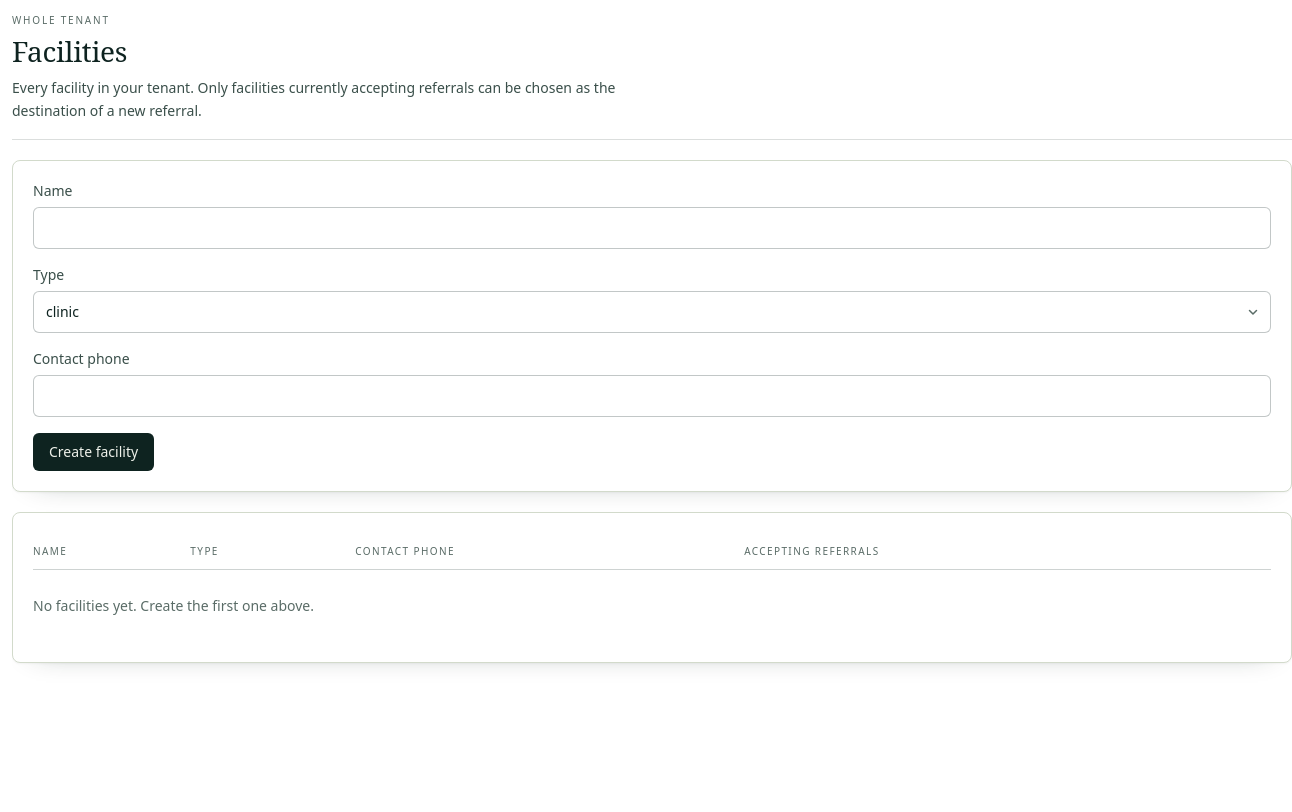
Test: FacilitiesPage › submits the create-facility form and reloads the list
In the field labelled "Name": (652, 228) [33,206,1271,248], type "New Facility"
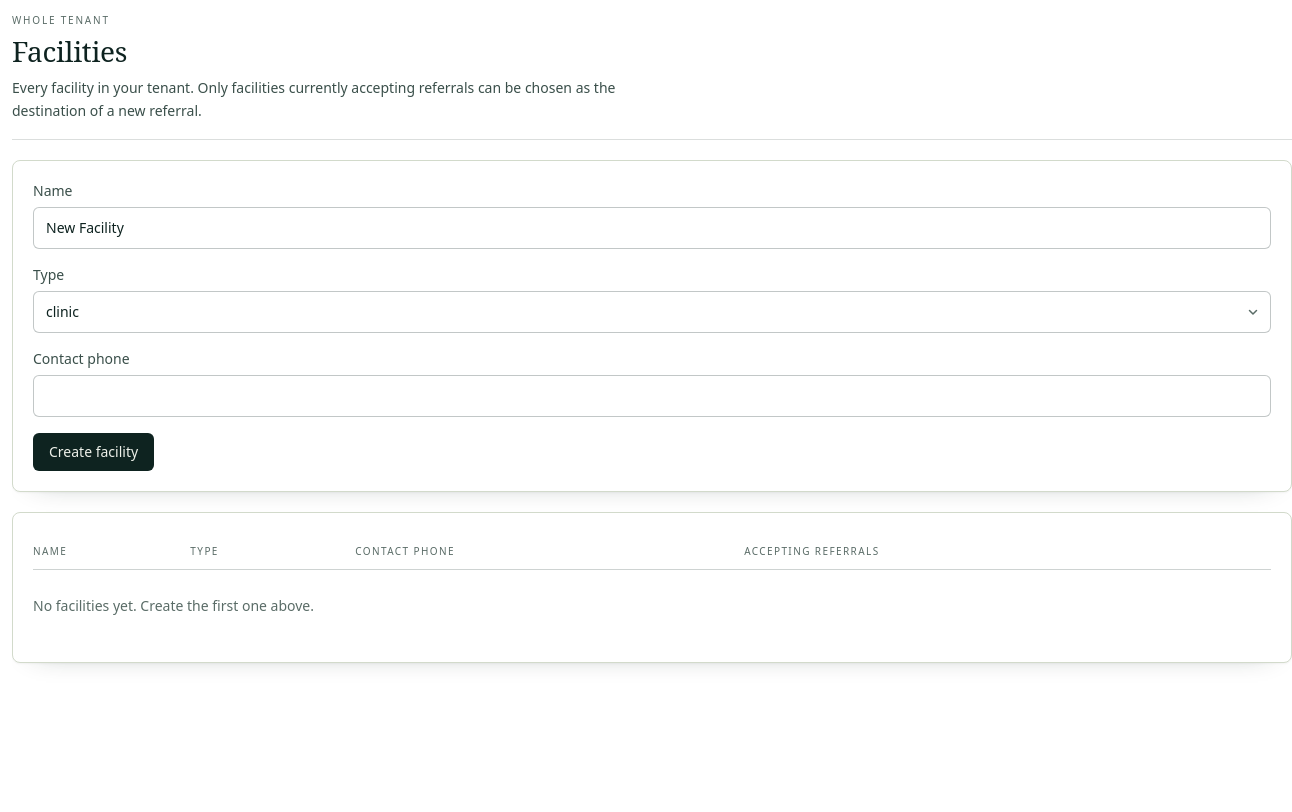
Click the button "Create facility": (94, 452) [33,432,154,470]
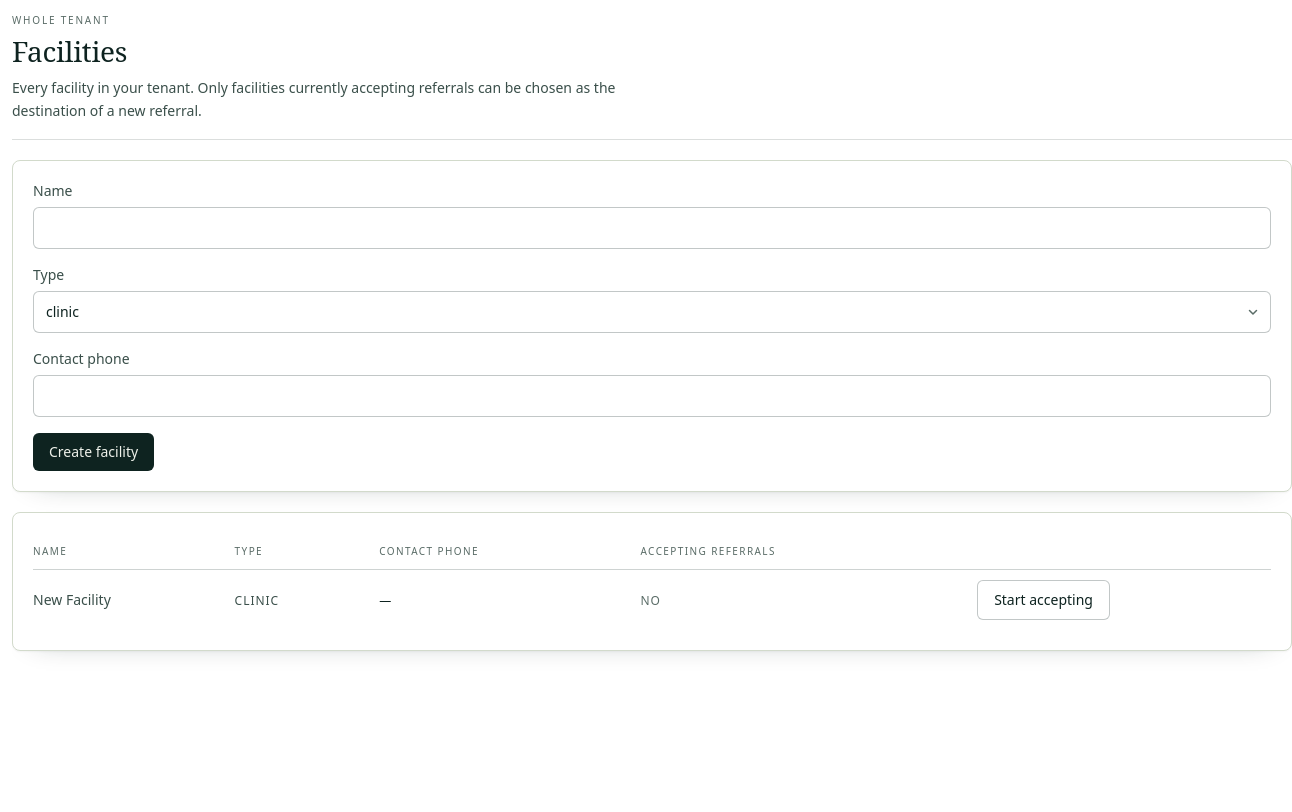
Now the text "New Facility" is shown, box [33,569,223,630]
